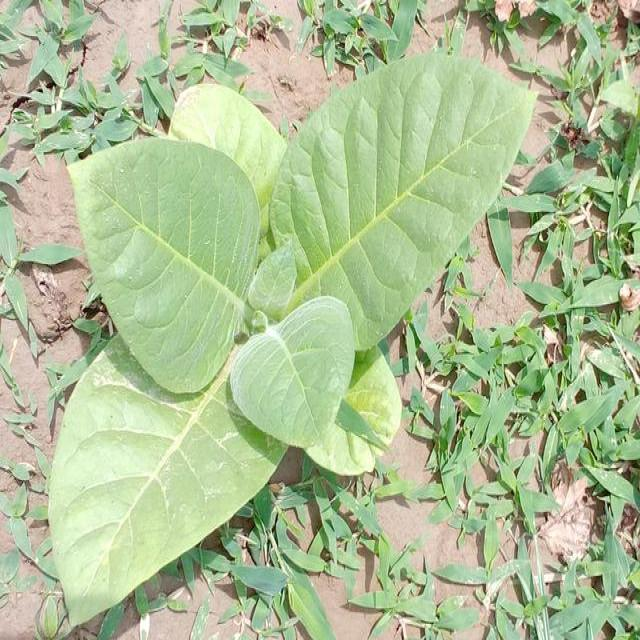crop: (51, 79, 376, 601), (317, 80, 510, 231)
